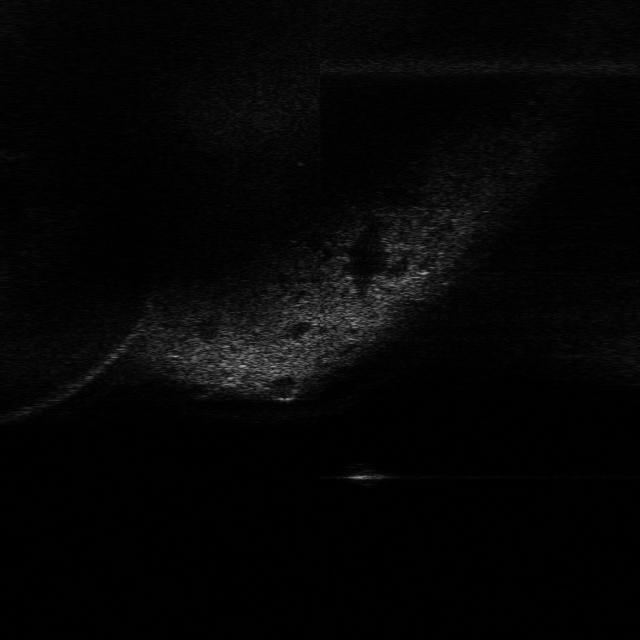cube: (340, 462, 390, 488)
